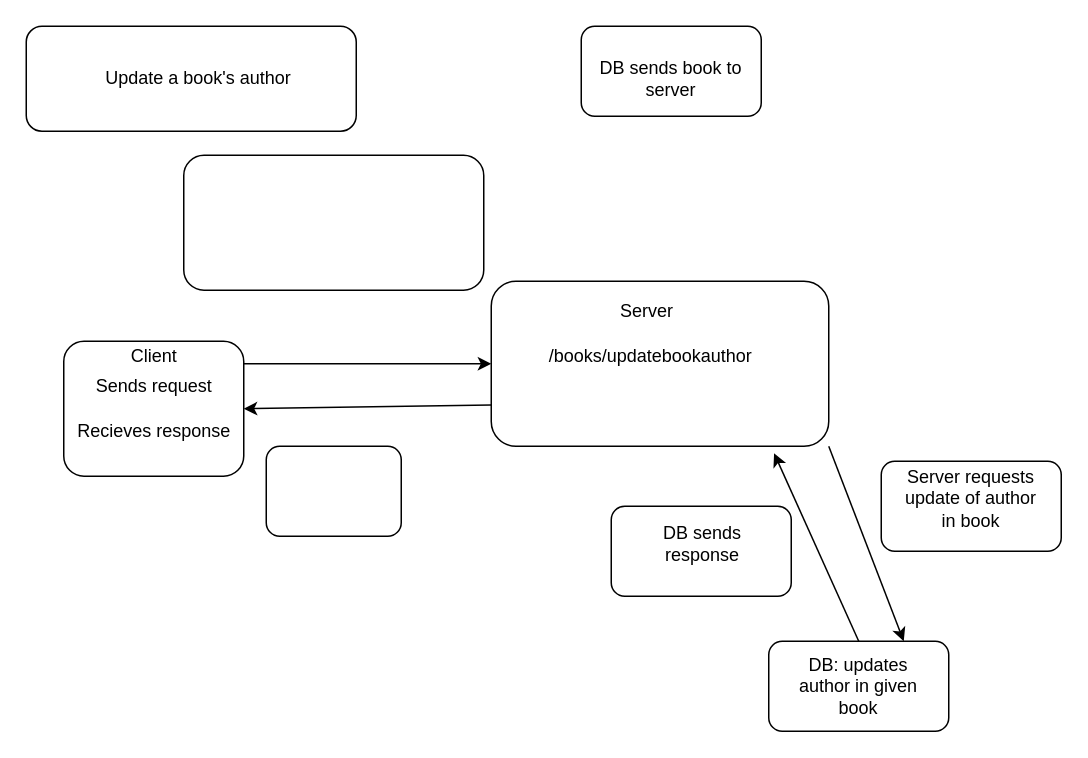
The diagram is 1088 pixels wide and 758 high, and some of its shapes have lost their labels. Here are the shapes that lost their labels. From the top down, the centre of each, then its label:
At point (333, 222): "Client sends a body to the server with book title and new author name".
At point (333, 490): "Server sends response with data".
